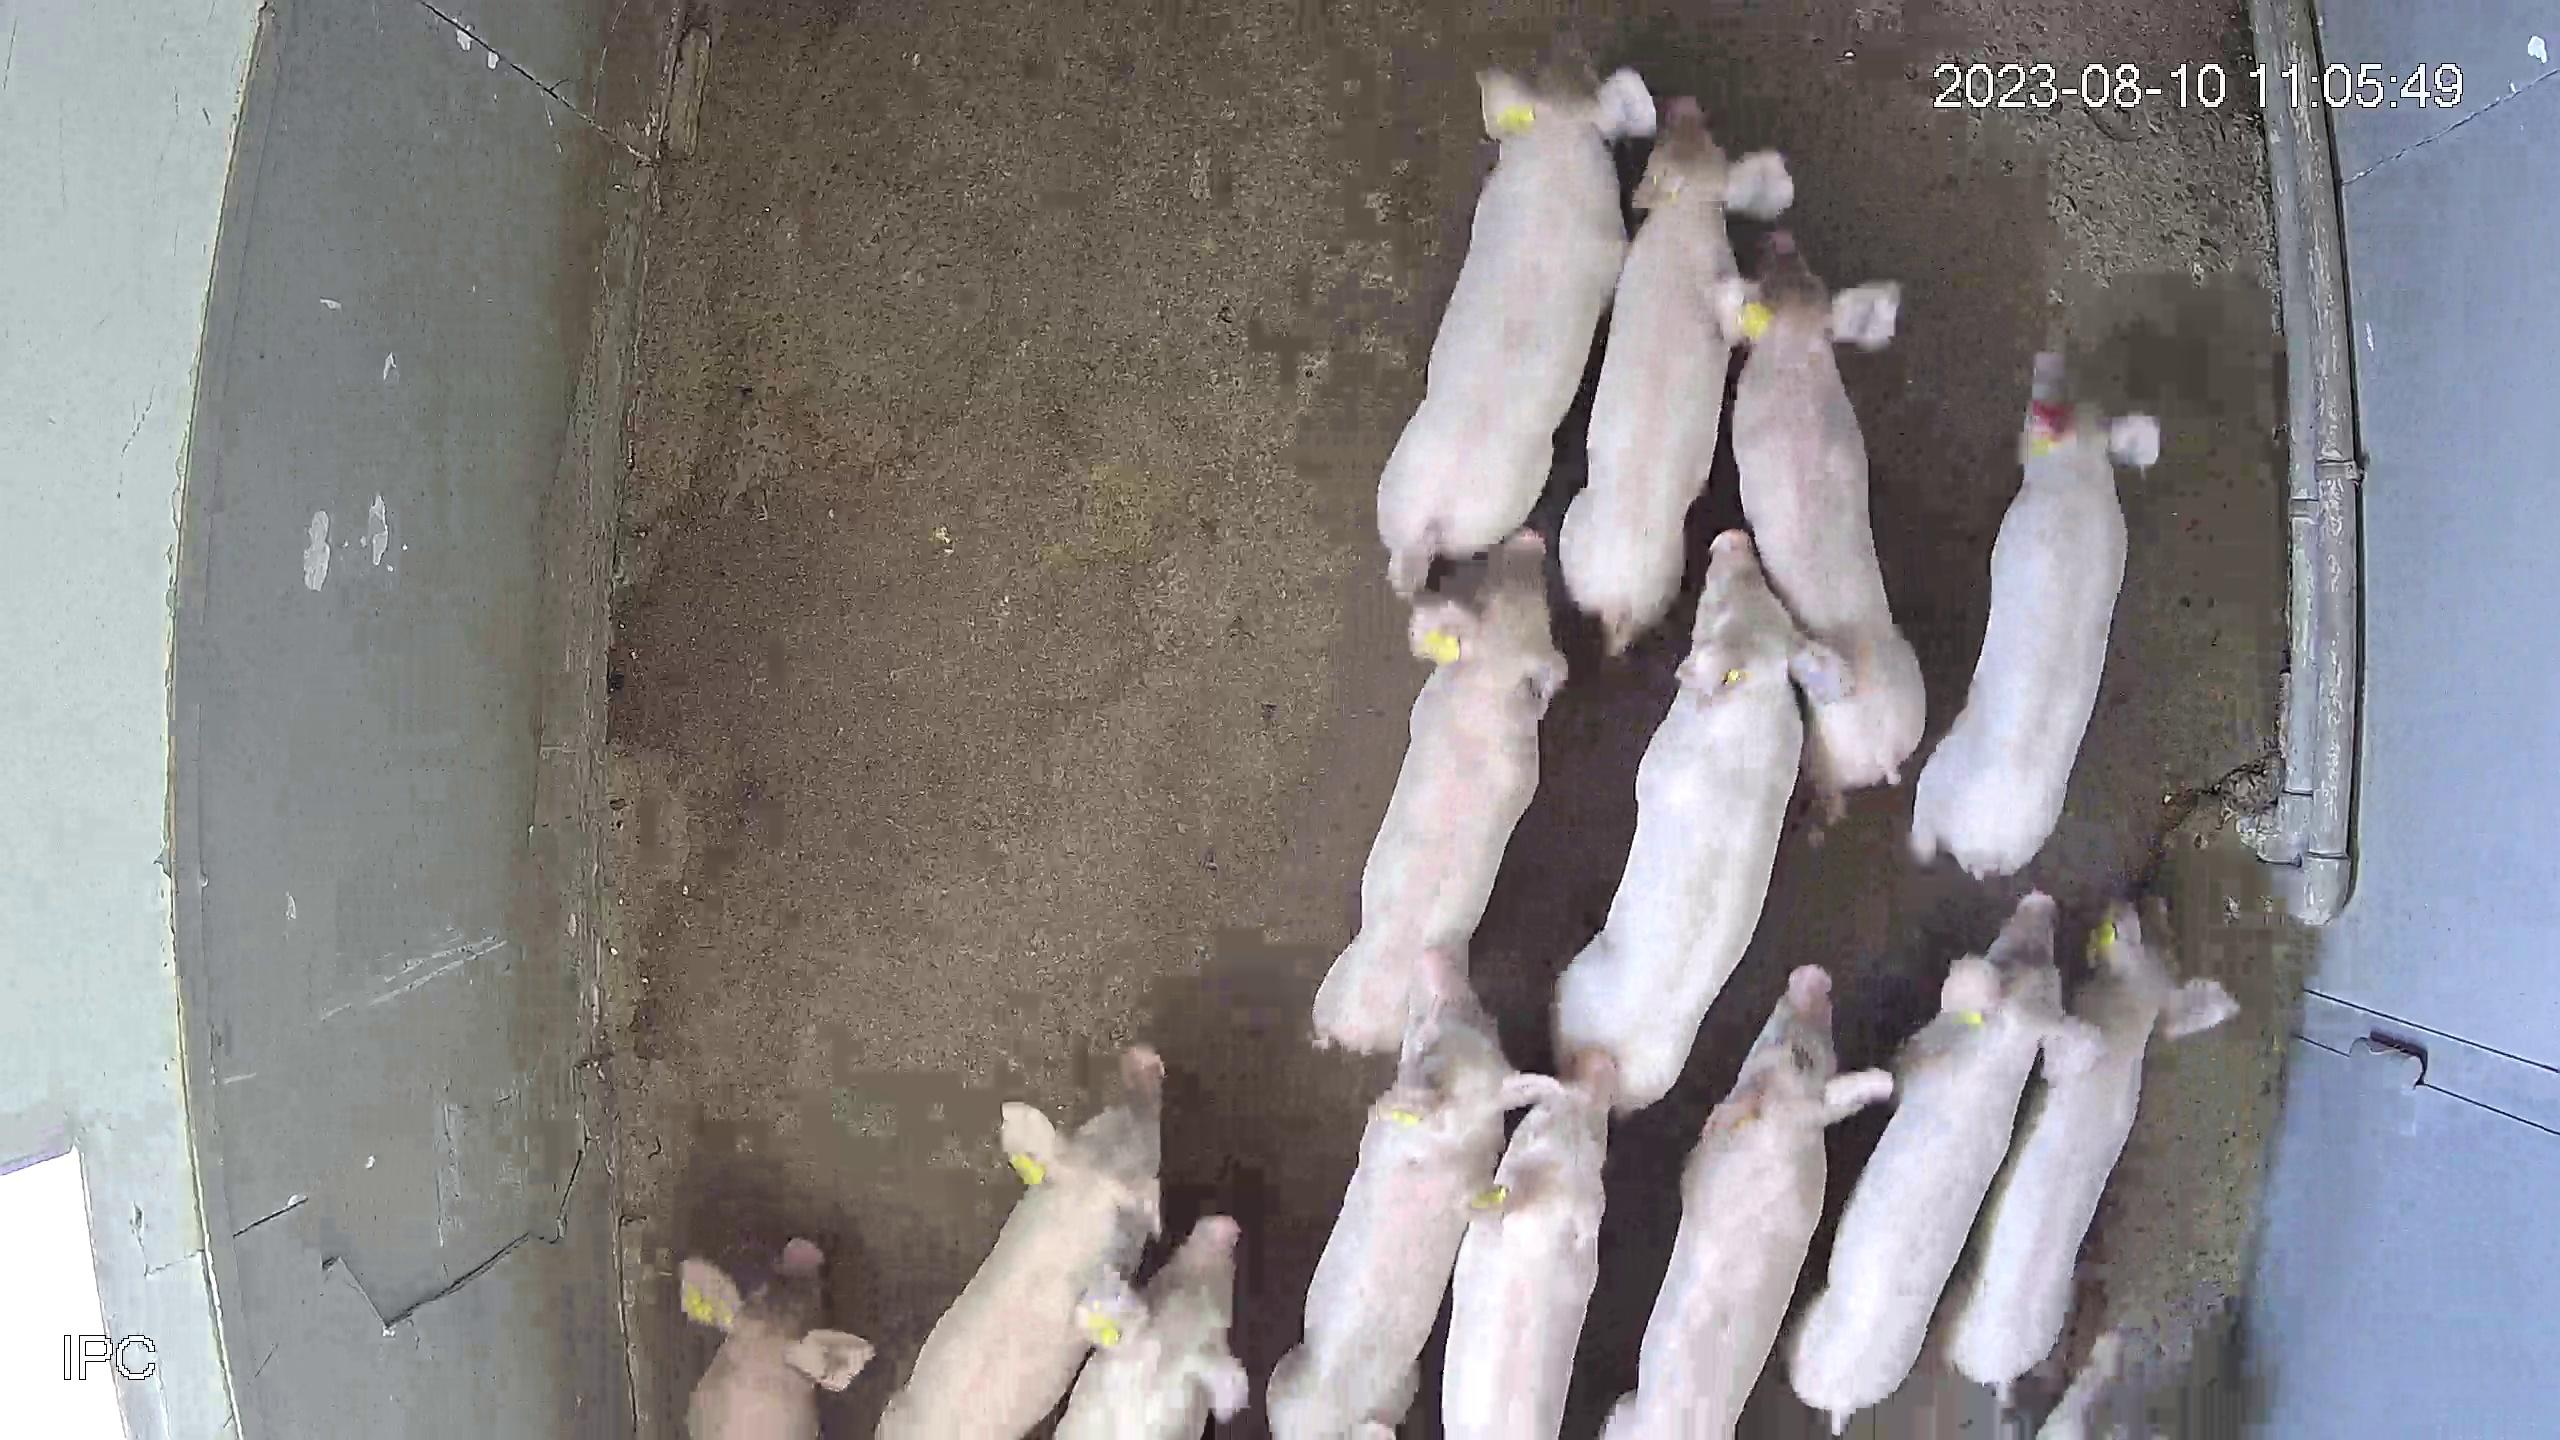Pig: (1558, 527, 1853, 1111), (1792, 890, 2101, 1433), (1378, 33, 1660, 596), (1946, 900, 2244, 1384), (1604, 964, 1897, 1440), (1313, 527, 1568, 1051), (1560, 91, 1795, 652), (1915, 350, 2163, 877), (1268, 944, 1516, 1440), (1734, 227, 1929, 818), (876, 1046, 1164, 1440), (1445, 1074, 1611, 1440), (1053, 1217, 1247, 1440), (679, 1240, 874, 1440)
